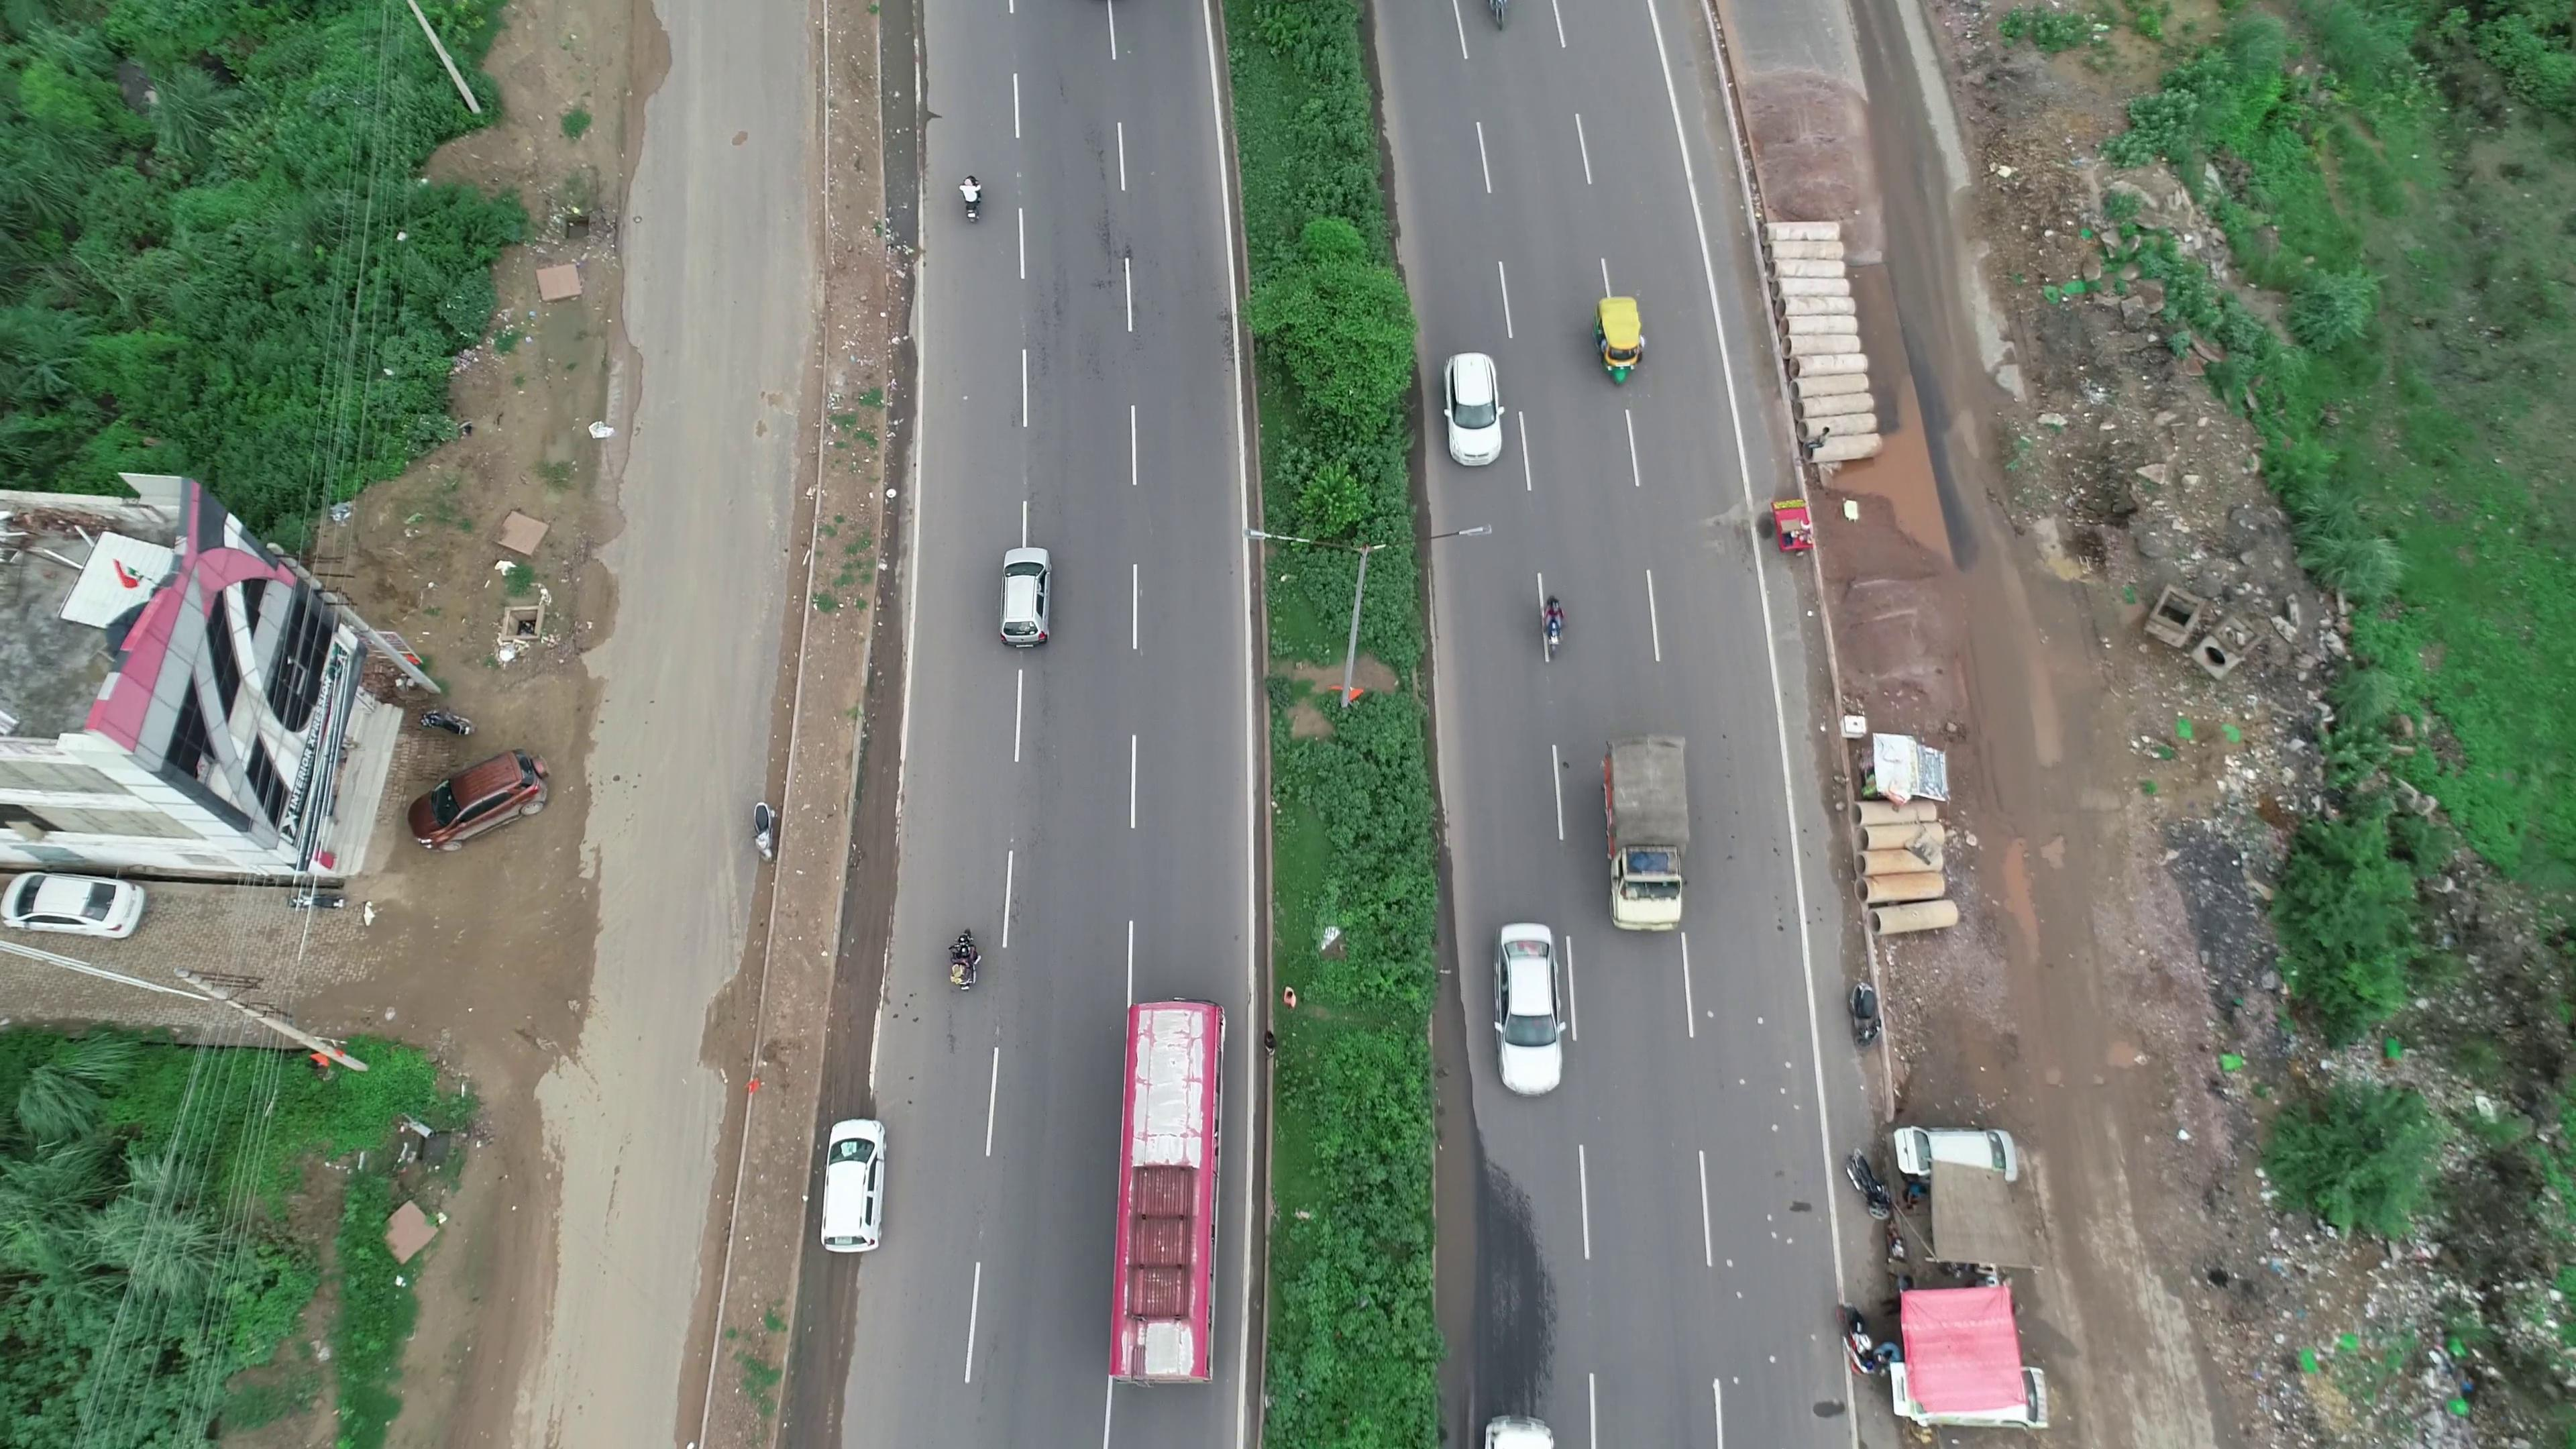Waterlogging: (1863, 410, 1962, 577)
